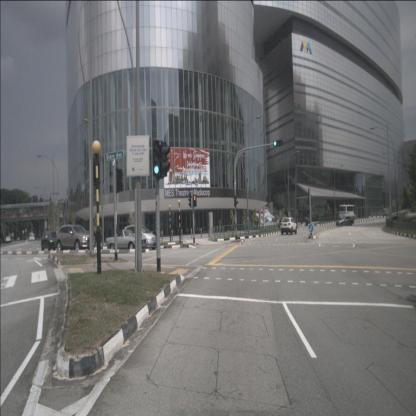human-pedestrian-adult: (219, 218, 221, 233)
vehicle-bus-rigid: (339, 204, 356, 223)
vehicle-car: (55, 223, 96, 253), (124, 224, 158, 251), (106, 230, 146, 252), (41, 231, 58, 252), (280, 217, 297, 235), (336, 215, 354, 227), (382, 208, 390, 218), (5, 235, 11, 243), (29, 233, 35, 241)
